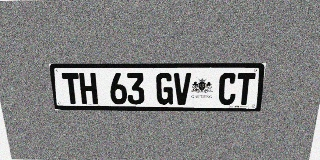3: (127, 73, 144, 104)
6: (109, 73, 127, 104)
C: (218, 73, 237, 105)
G: (156, 73, 173, 105)
H: (79, 73, 98, 104)
T: (235, 73, 256, 105), (62, 73, 81, 104)
V: (174, 73, 191, 105)
